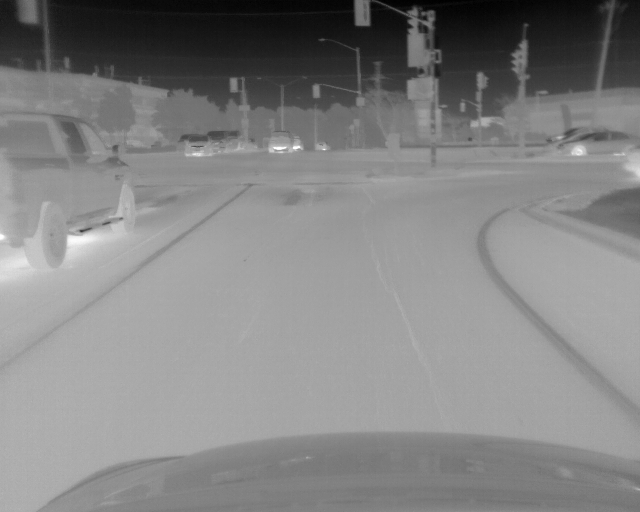car: (1, 111, 140, 274), (556, 132, 639, 157), (185, 133, 212, 157), (547, 128, 590, 142), (267, 130, 293, 152), (209, 131, 228, 153), (226, 129, 240, 151), (178, 134, 189, 153), (292, 134, 303, 151), (315, 140, 330, 151)
